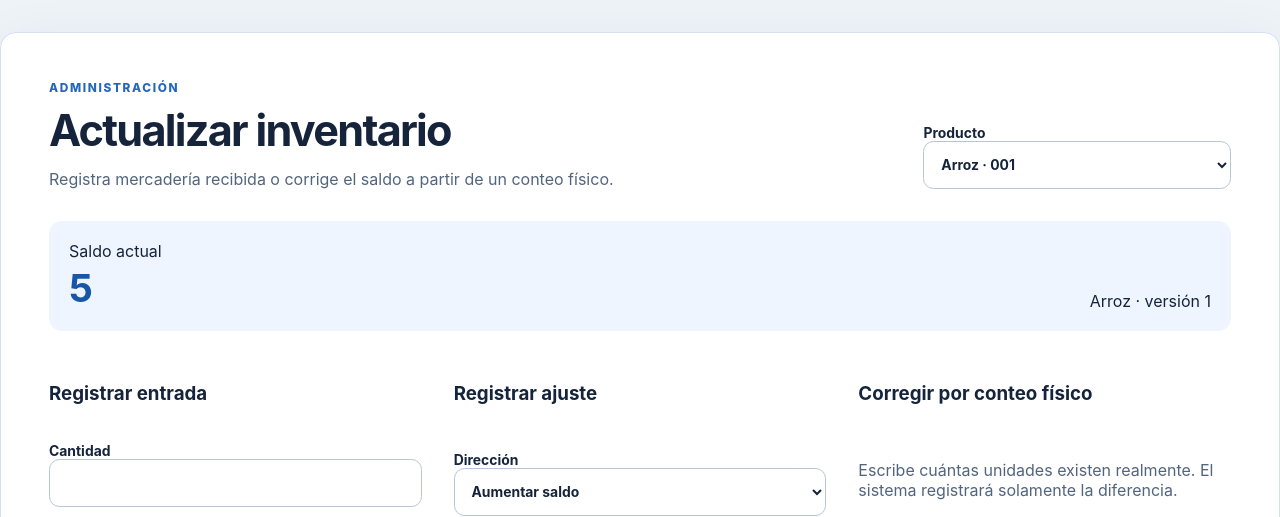
InventoryAdmin › loads a newly selected product and reports request failures safely
This screenshot has width=1280, height=517.
Step 1. Select "Azúcar · Sin código · Inactivo" in the dropdown named "Producto de inventario" → (1077, 165), box [924,141,1231,189]
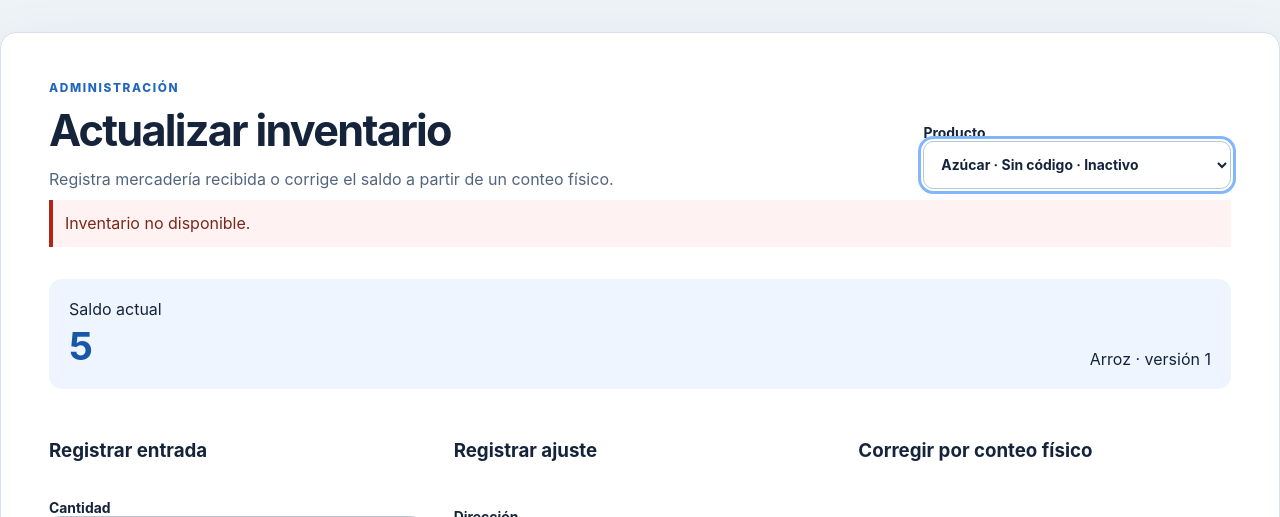
Expected: the message reads "Inventario no disponible.", [65,212,250,232]
